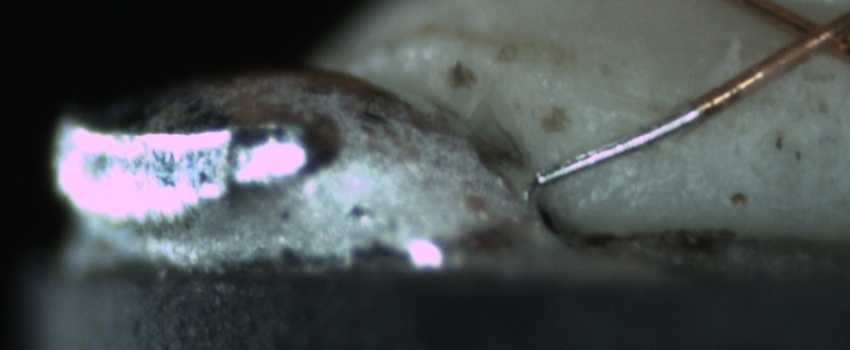CL: (769, 2, 848, 67)
TS: (529, 99, 700, 188)
